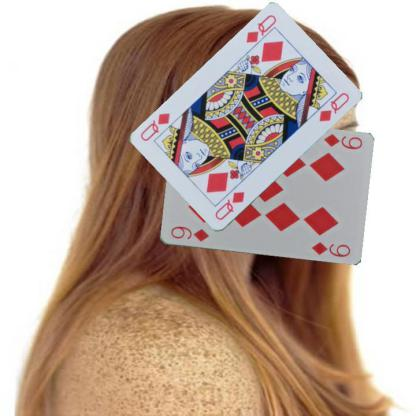9d: (322, 131, 364, 151), (168, 224, 210, 243)
Qd: (243, 12, 278, 53), (212, 189, 246, 222)
